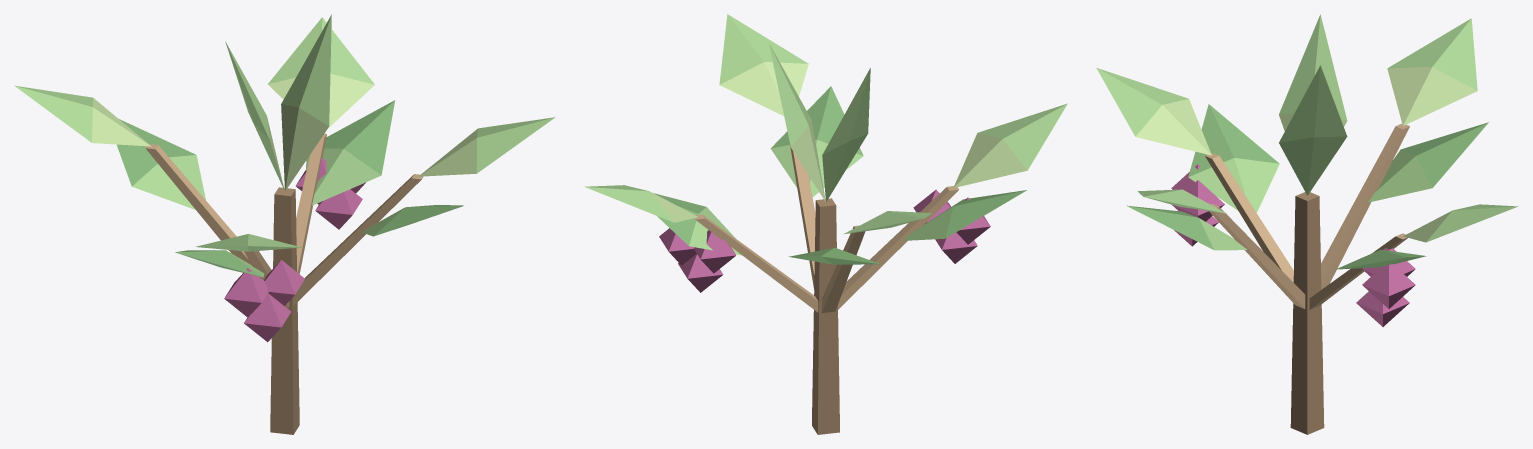
File: crop_berry_s2.glb
3 views of the same model, side by side, from view 1: azimuth 30°, elevation 25°; view 2: azimuth 150°, elevation 25°; view 3: azimuth 270°, elevation 25° (orthographic). The views are drawn at different scales.
Parts seen in each view (by area): view 1: crop_berry_s2; view 2: crop_berry_s2; view 3: crop_berry_s2.
Part boxes in pixels (box(x1,y1,x2,y2)): crop_berry_s2: box(14, 14, 555, 434); crop_berry_s2: box(584, 14, 1067, 434); crop_berry_s2: box(1096, 14, 1518, 434).
Bounding box in the file's own units: 0.4545 × 0.4606 × 0.4545.
